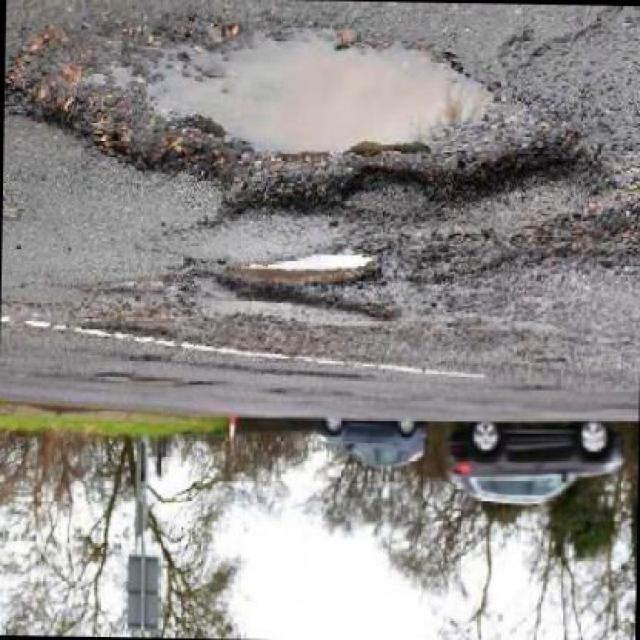pothole1: (7, 14, 584, 226), (212, 246, 398, 326), (534, 194, 638, 275), (95, 372, 217, 393), (80, 318, 172, 344)
